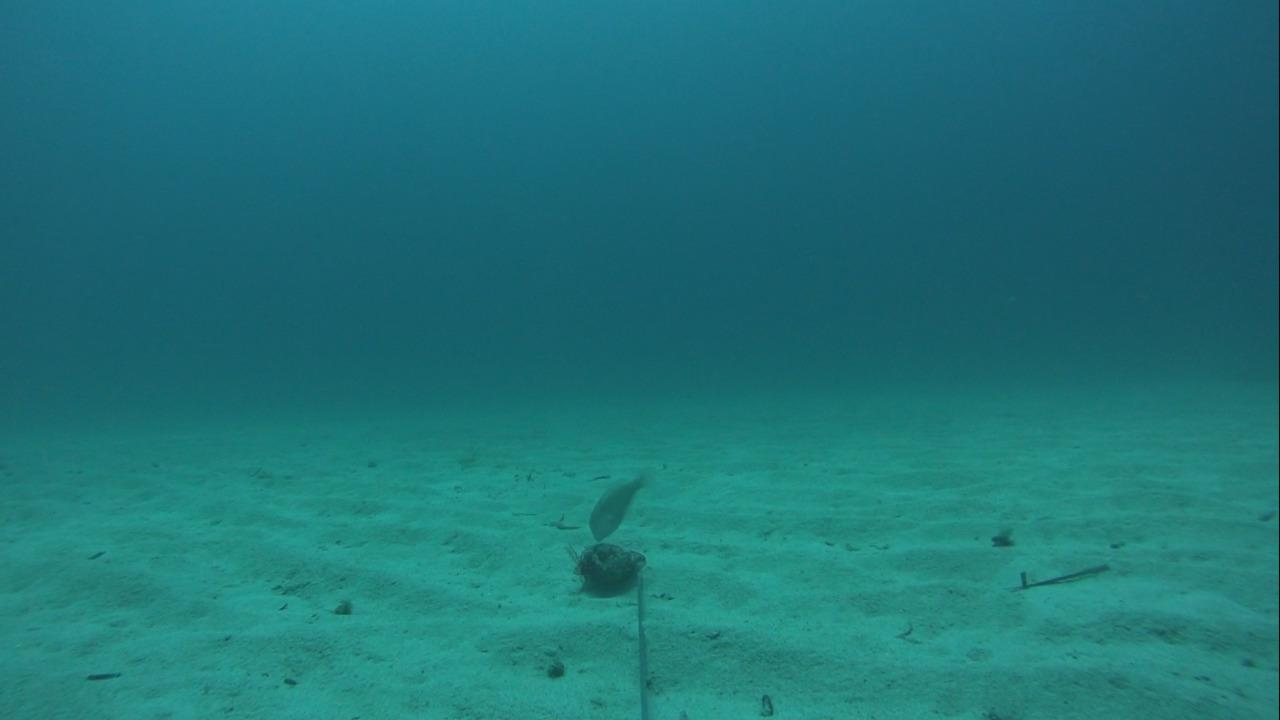raor: (577, 466, 662, 543)
